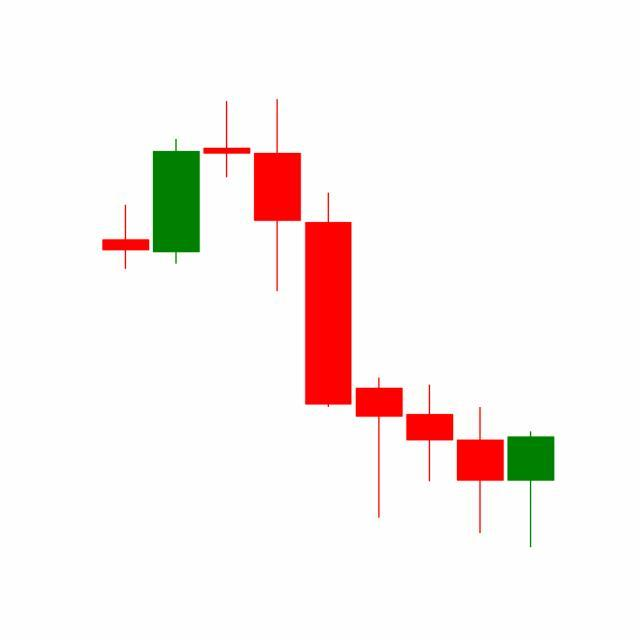Hikkake Pattern: (252, 99, 506, 539)
